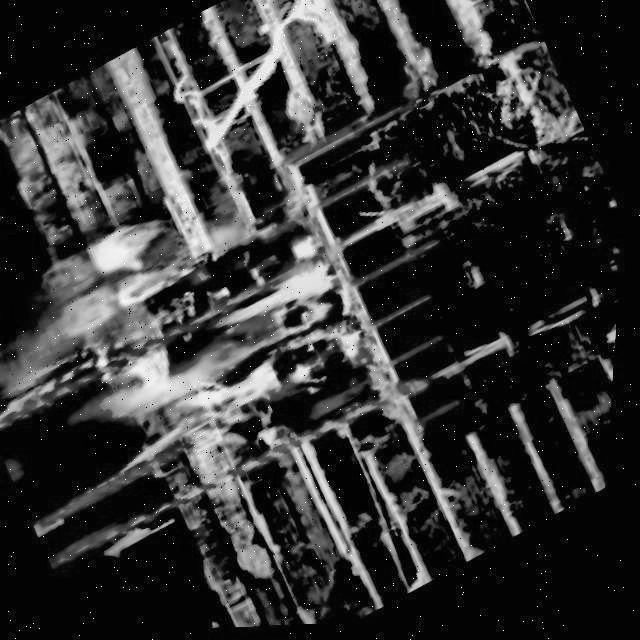Fire: (68, 230, 379, 485)
